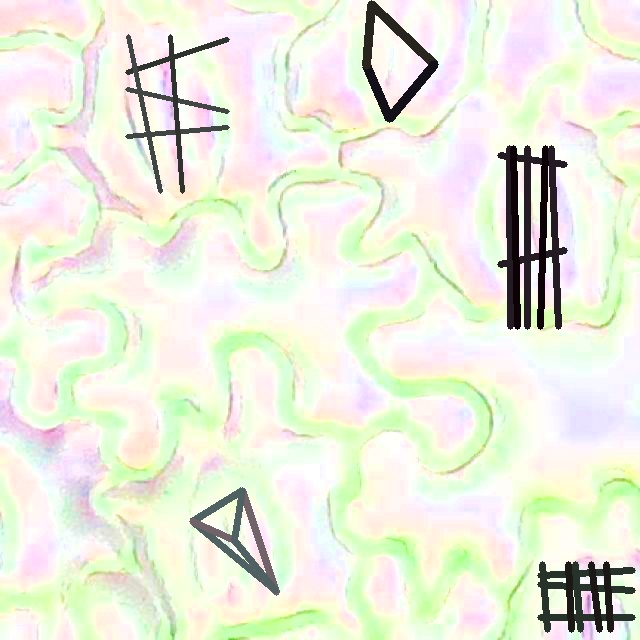open: (125, 34, 229, 193), (498, 146, 567, 328), (189, 487, 279, 593), (362, 0, 438, 122), (537, 561, 635, 632)
